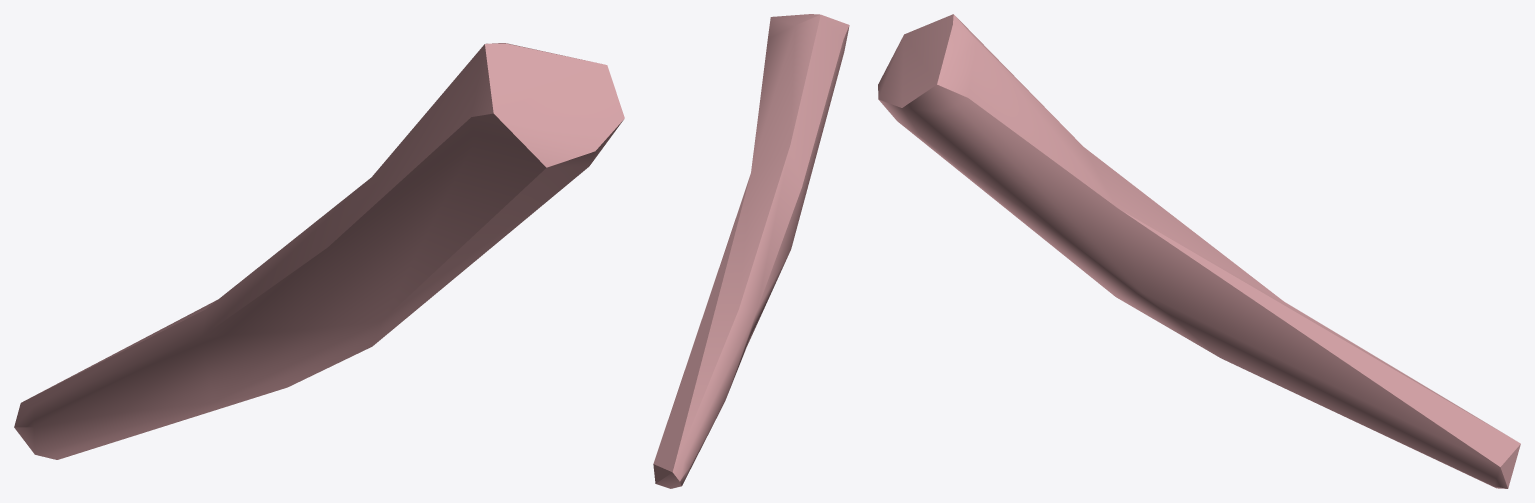
The model's file is fma68232_fj6512.glb.
The picture shows the model from 3 angles, left to right: view 1: azimuth 30°, elevation 25°; view 2: azimuth 150°, elevation 25°; view 3: azimuth 270°, elevation 25°; orthographic projection. The views are drawn at different scales.
Parts seen in each view (by area): view 1: FMA68232_FJ6512; view 2: FMA68232_FJ6512; view 3: FMA68232_FJ6512.
Boxes of the visible parts, x1,y1,x2,y2 form: FMA68232_FJ6512: (14,43,624,459); FMA68232_FJ6512: (653,14,849,488); FMA68232_FJ6512: (878,14,1520,488).
Bounding box in the file's own units: 0.00498 × 0.0154 × 0.0181.
